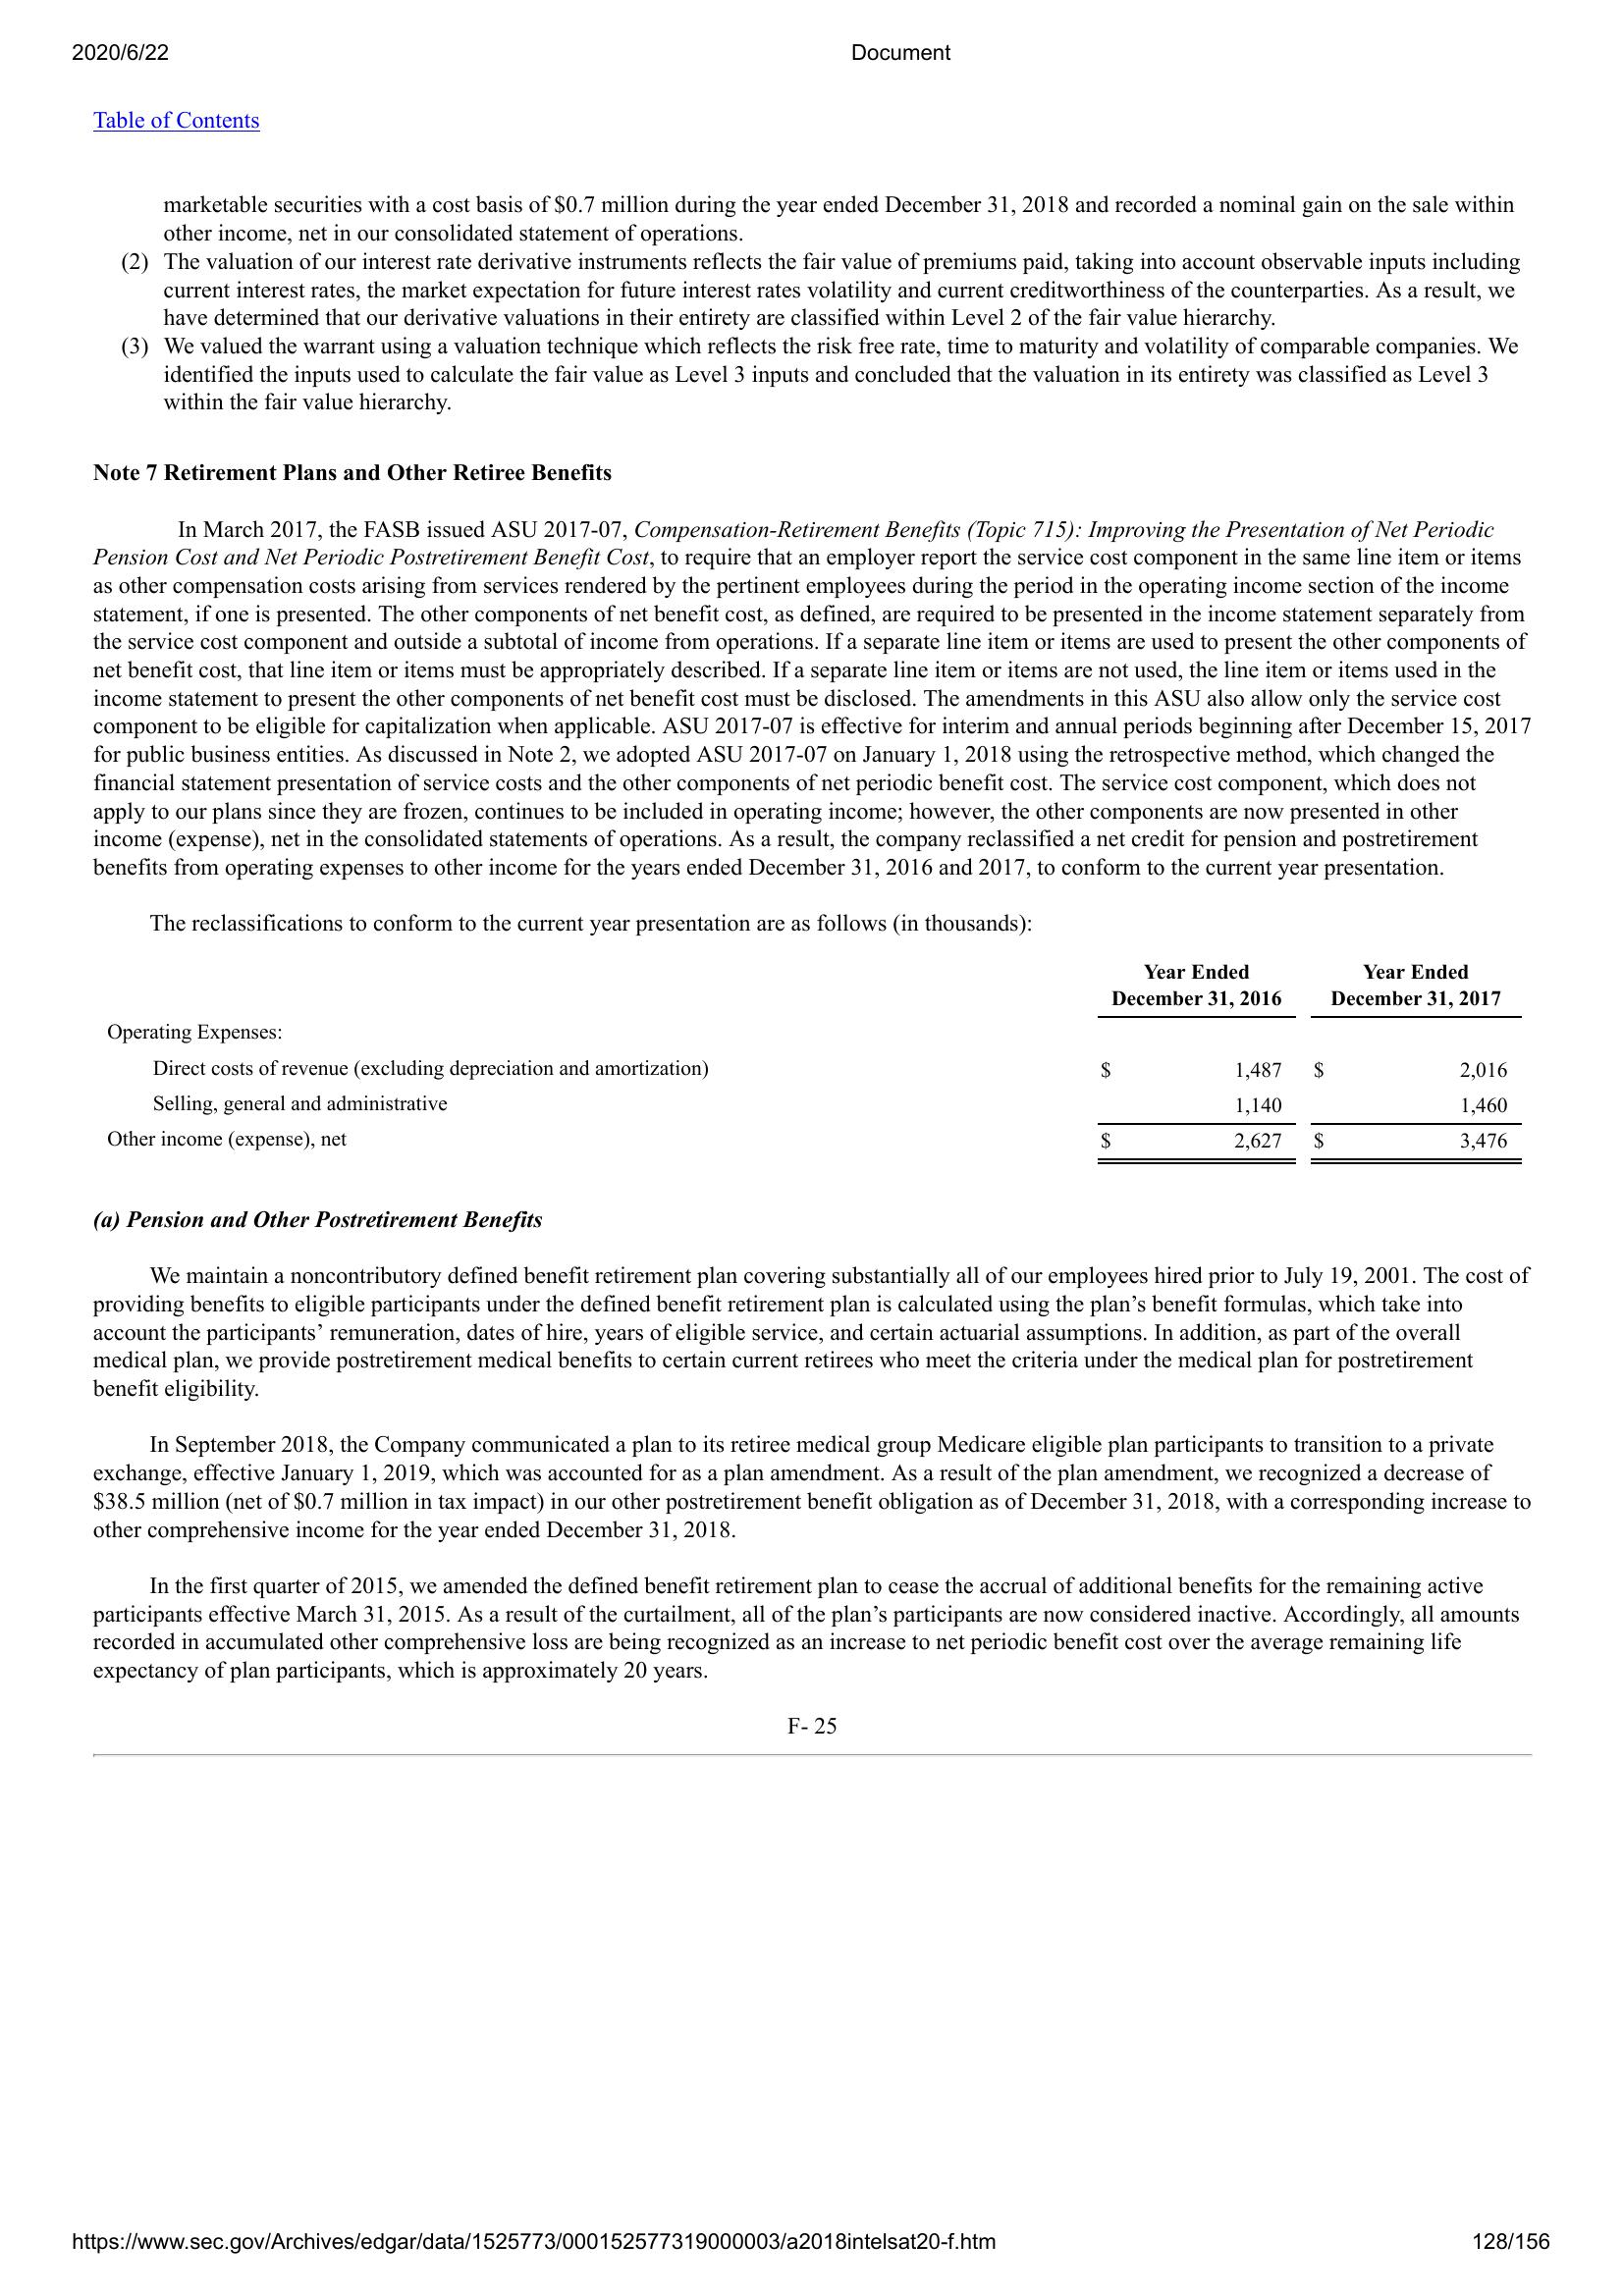table: (91, 960, 1533, 1171)
